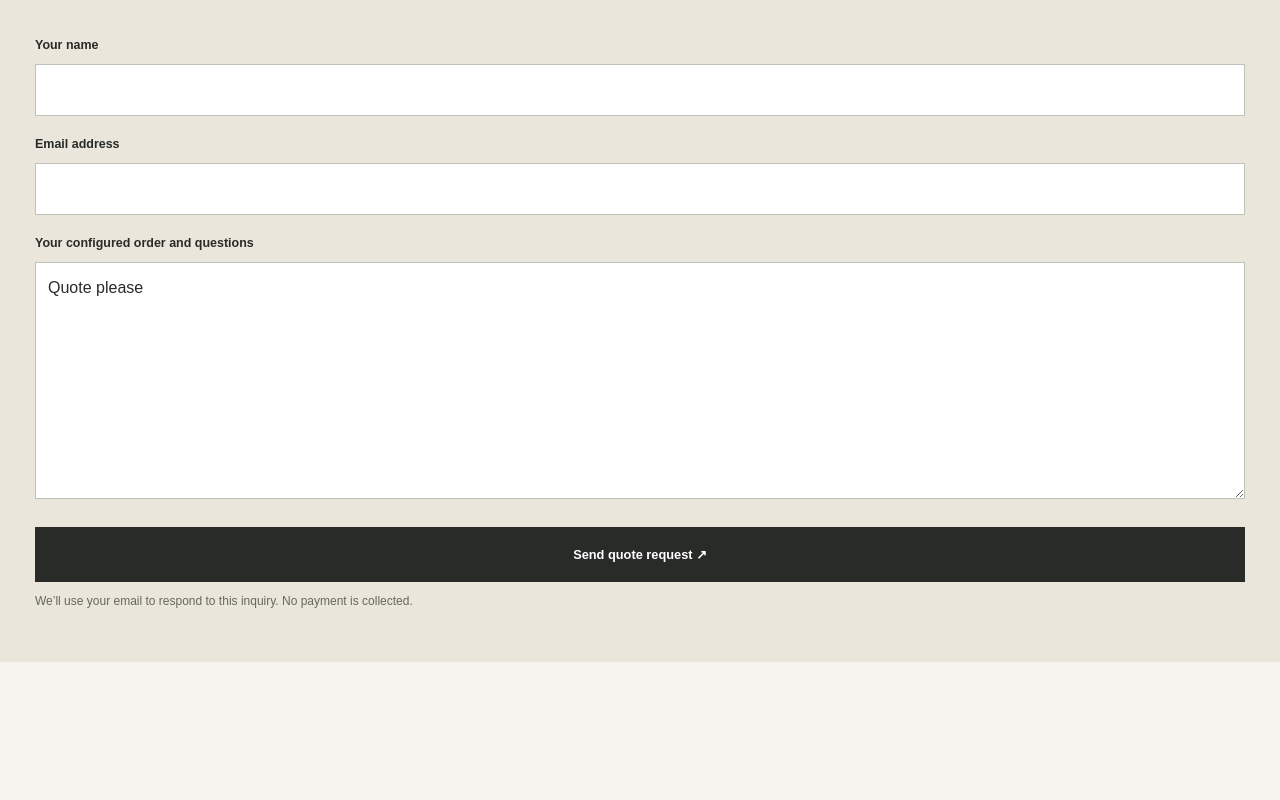
Scenario: confirmation copy appears only when the server confirms delivery
Type "Trade Buyer" into the field labelled "Your name" at {"x": 640, "y": 90}, box [35,64,1245,116]
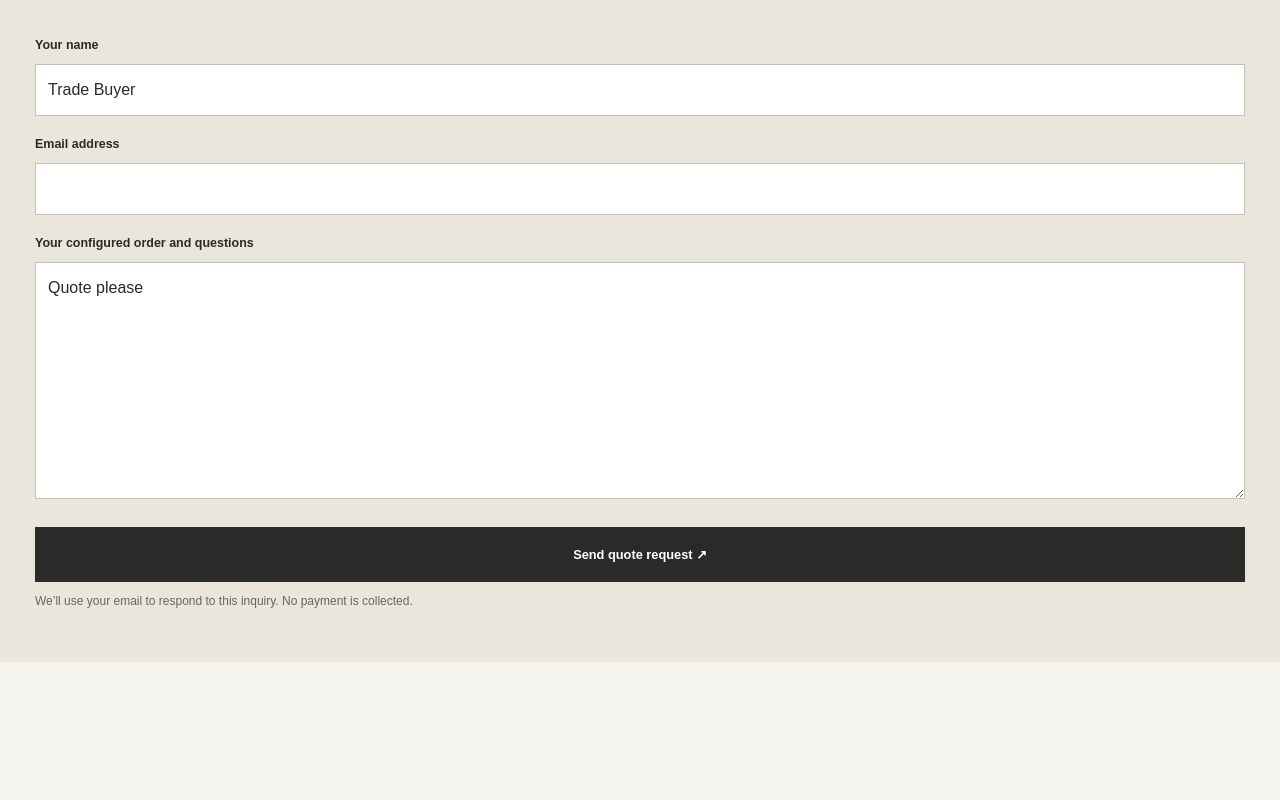
Type "buyer@example.com" into the field labelled "Email address" at {"x": 640, "y": 189}, box [35,163,1245,215]
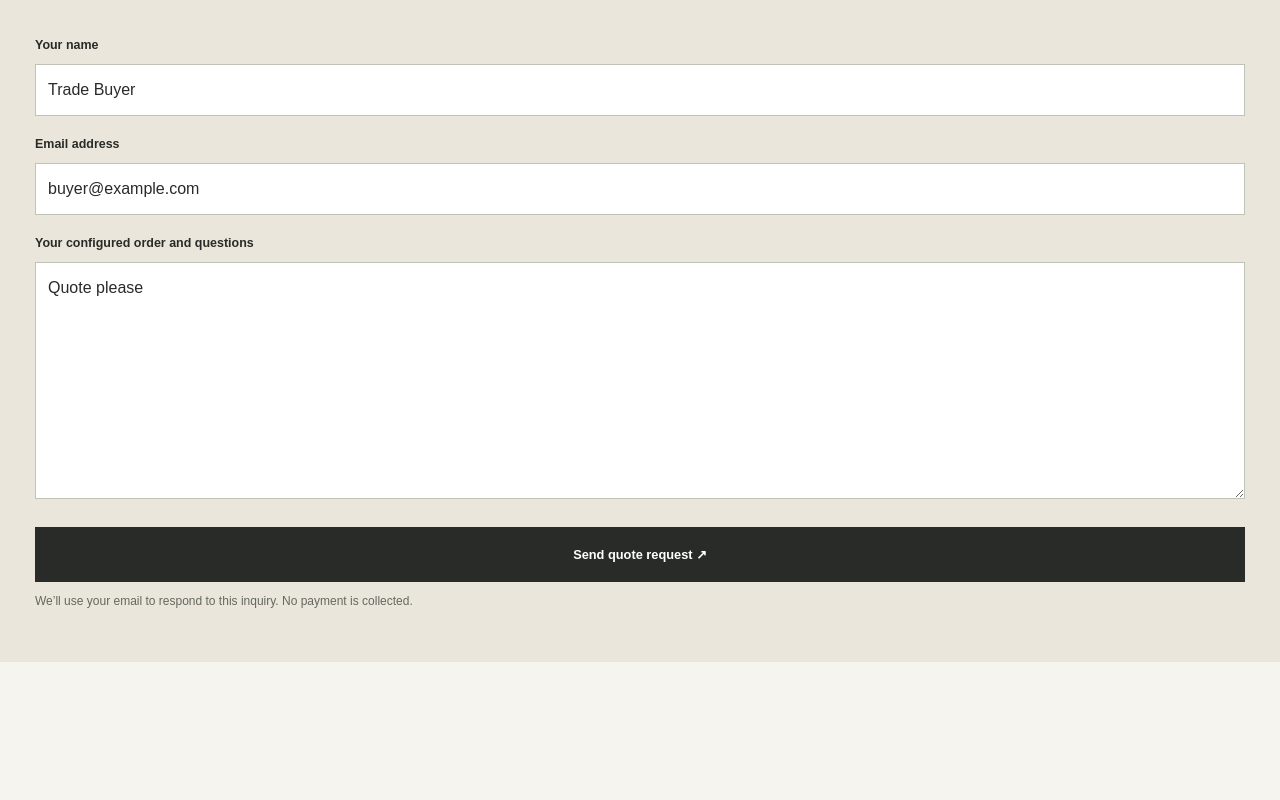
Click the button "Send quote request ↗" at {"x": 640, "y": 555}, box [35,527,1245,582]
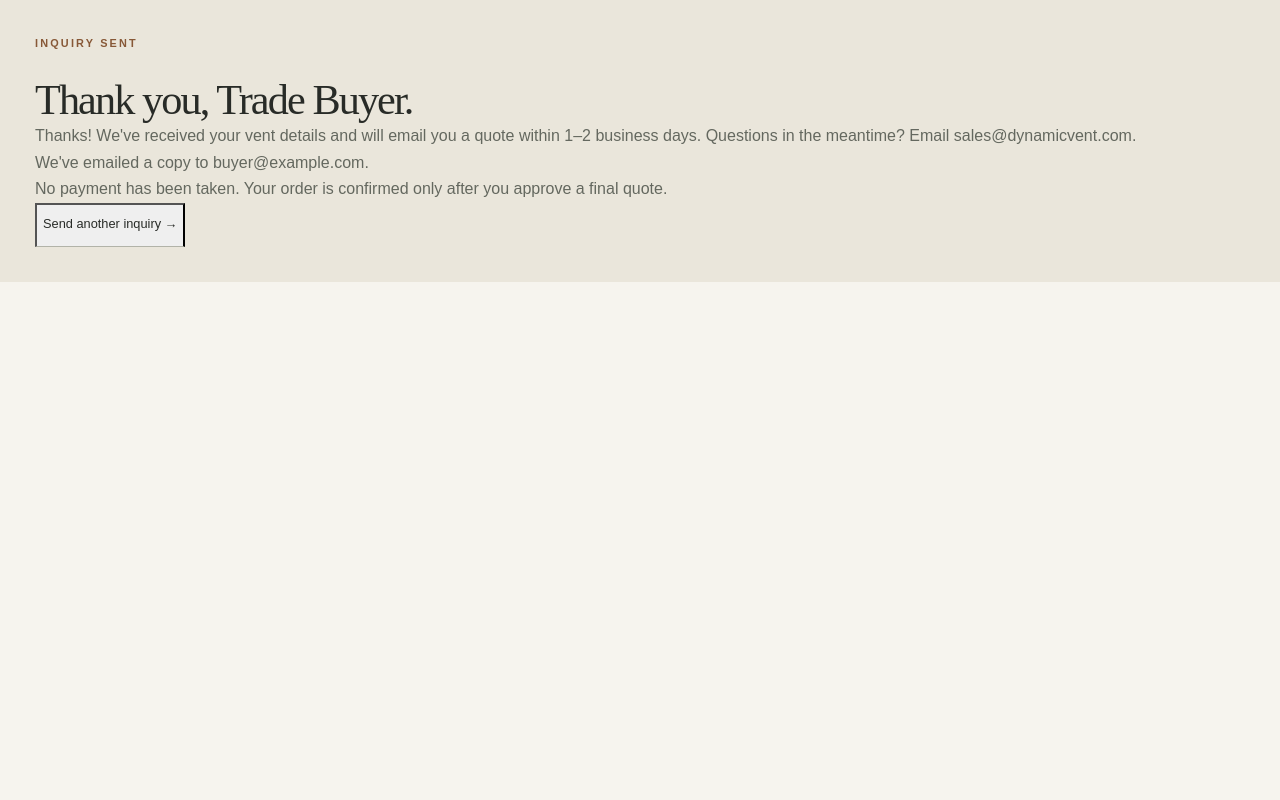
Now the text "We've emailed a copy to buyer@example.com." is shown, box [35,154,369,171]
